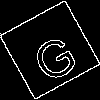G: (24, 25, 81, 86)
